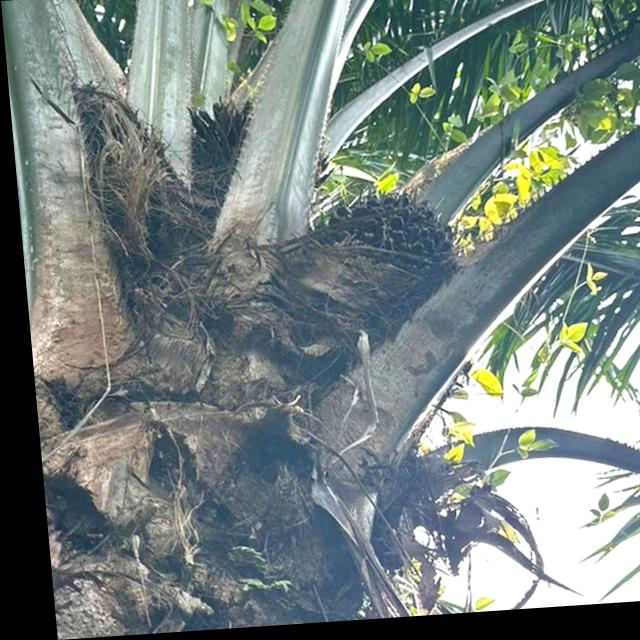almost: (269, 181, 462, 352)
